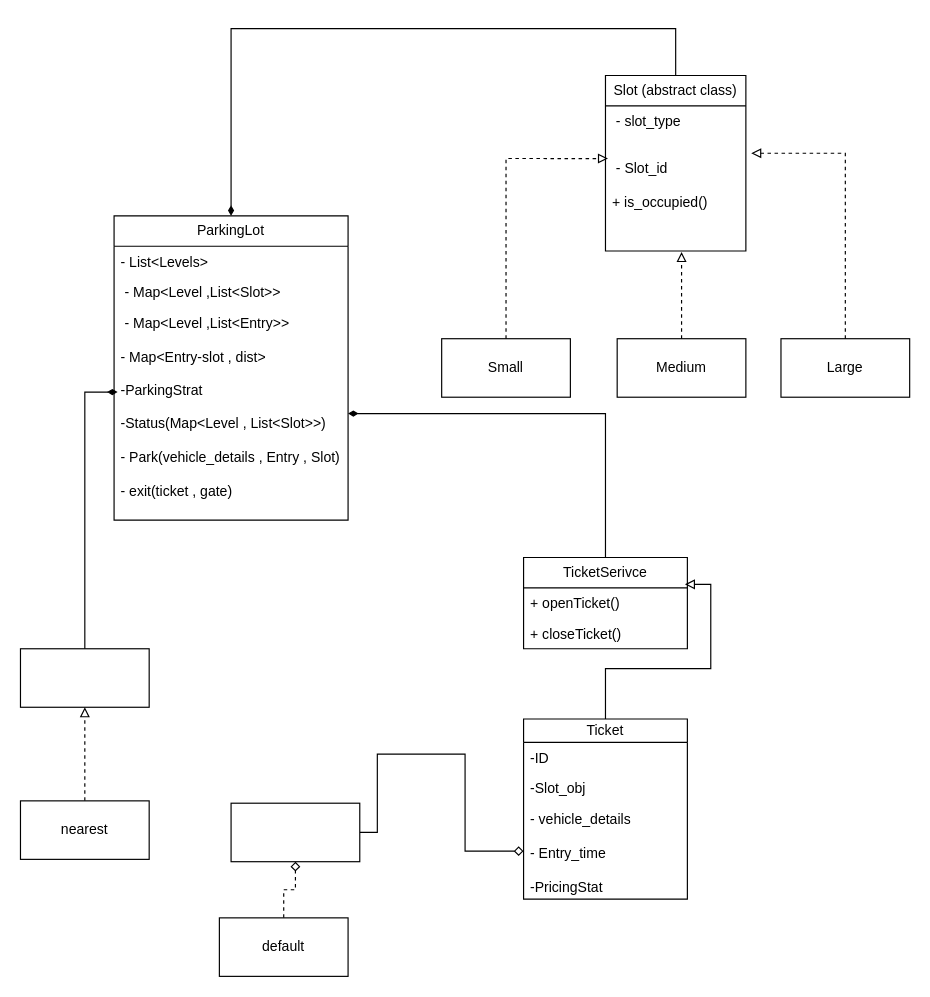
The diagram is 930 pixels wide and 997 high, and some of its shapes have lost their labels. The shapes that lost their labels are listed below. From the top down, each one's centre as x and y in pixels, then its label:
At (84,677): "«interface» ParkingStrat getSlot()".
At (295,832): "«interface» PricingStrat calculate()".
